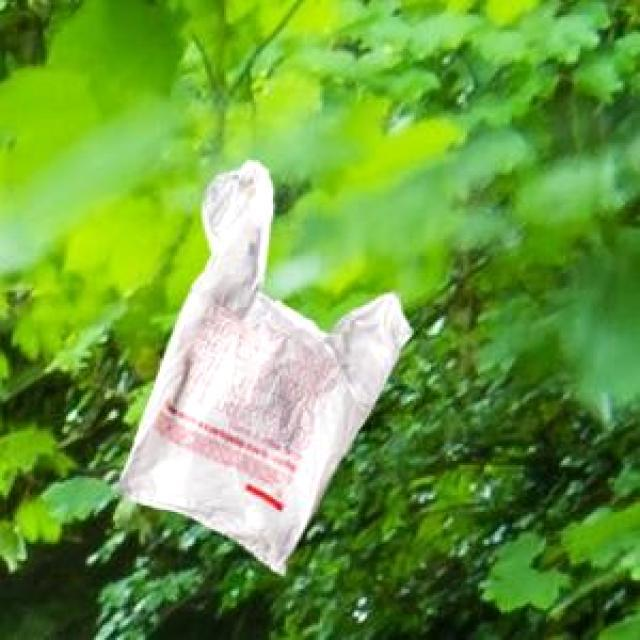Plastic_Bag: (116, 157, 409, 573)
